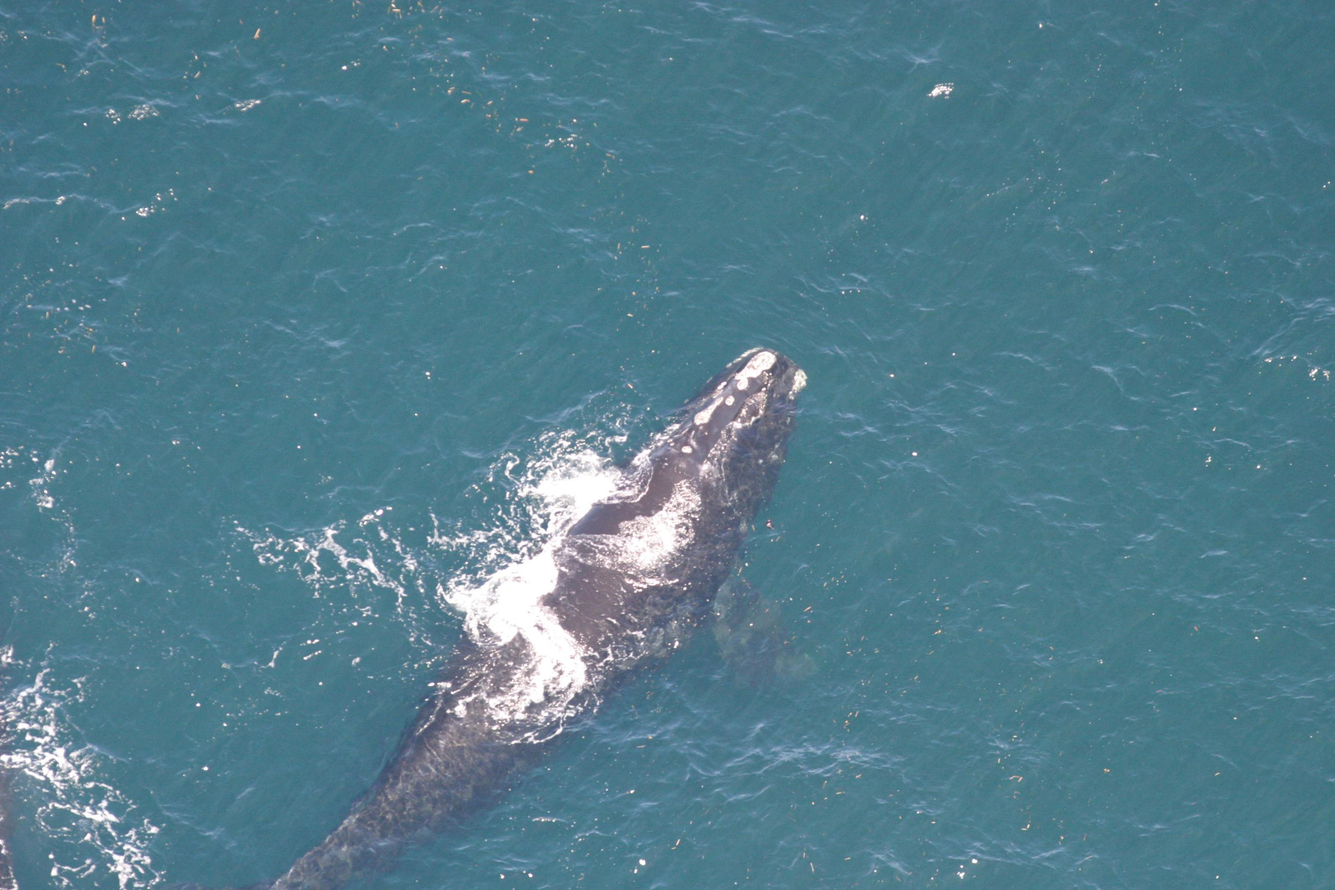whale: (258, 341, 823, 890)
